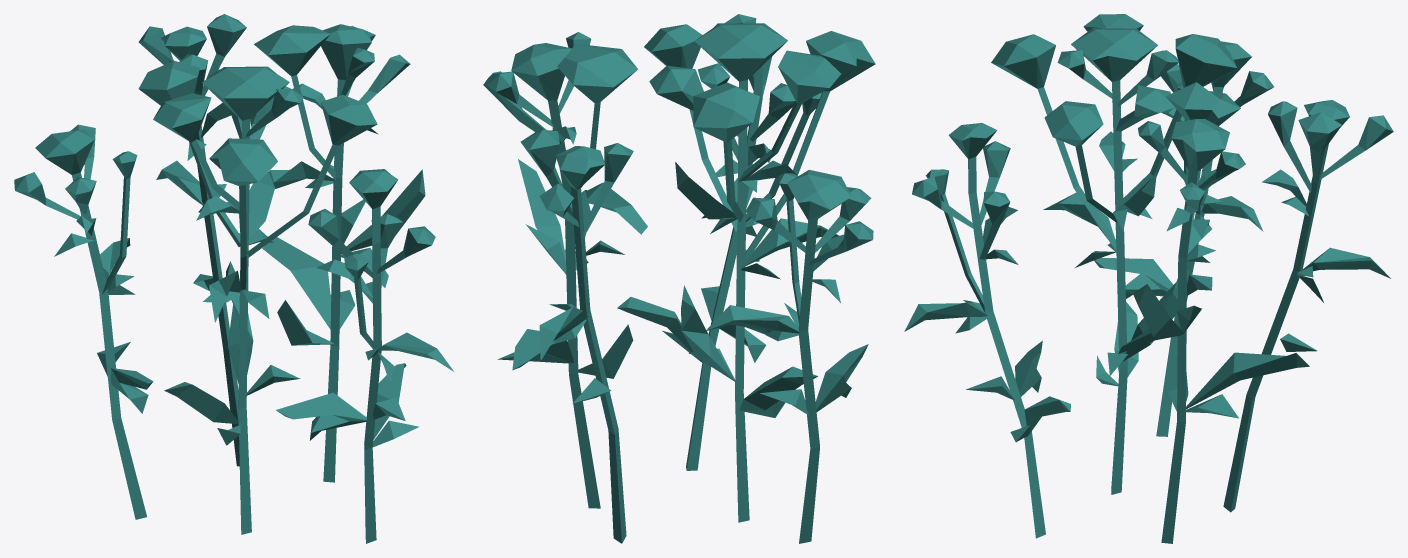
File: SM_Flower_Yarrow_Mature.fbx
3 renders of one model, left to right at view 1: azimuth 30°, elevation 25°; view 2: azimuth 150°, elevation 25°; view 3: azimuth 270°, elevation 25°, orthographic. The views are drawn at different scales.
Visible parts, largest first — view 1: flower-yarrow-mature; view 2: flower-yarrow-mature; view 3: flower-yarrow-mature.
Boxes of the visible parts, left/top/right/bottom form: flower-yarrow-mature: left=14, top=14, right=453, bottom=543; flower-yarrow-mature: left=483, top=14, right=875, bottom=543; flower-yarrow-mature: left=904, top=14, right=1393, bottom=543.
Bounding box in the file's own units: 0.6721 × 0.7846 × 0.7553.
